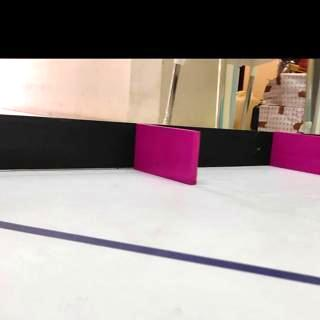xparking: (138, 130, 195, 180), (276, 136, 320, 170)
